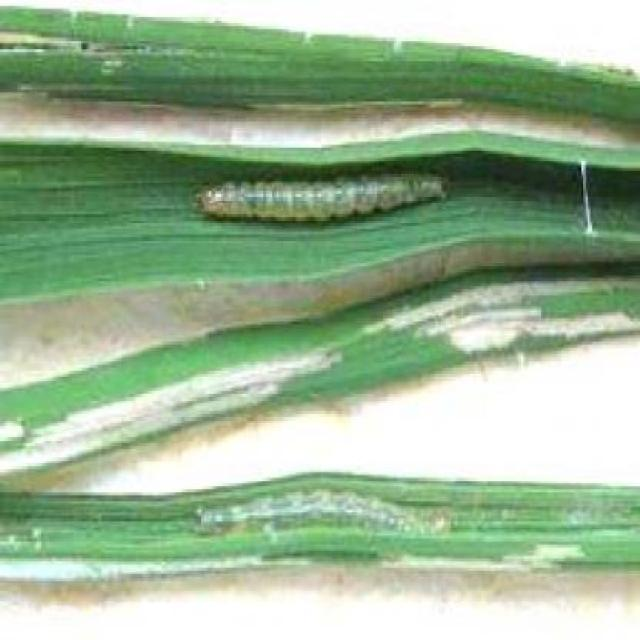leaf-folder: (188, 470, 472, 559), (184, 156, 468, 244)
